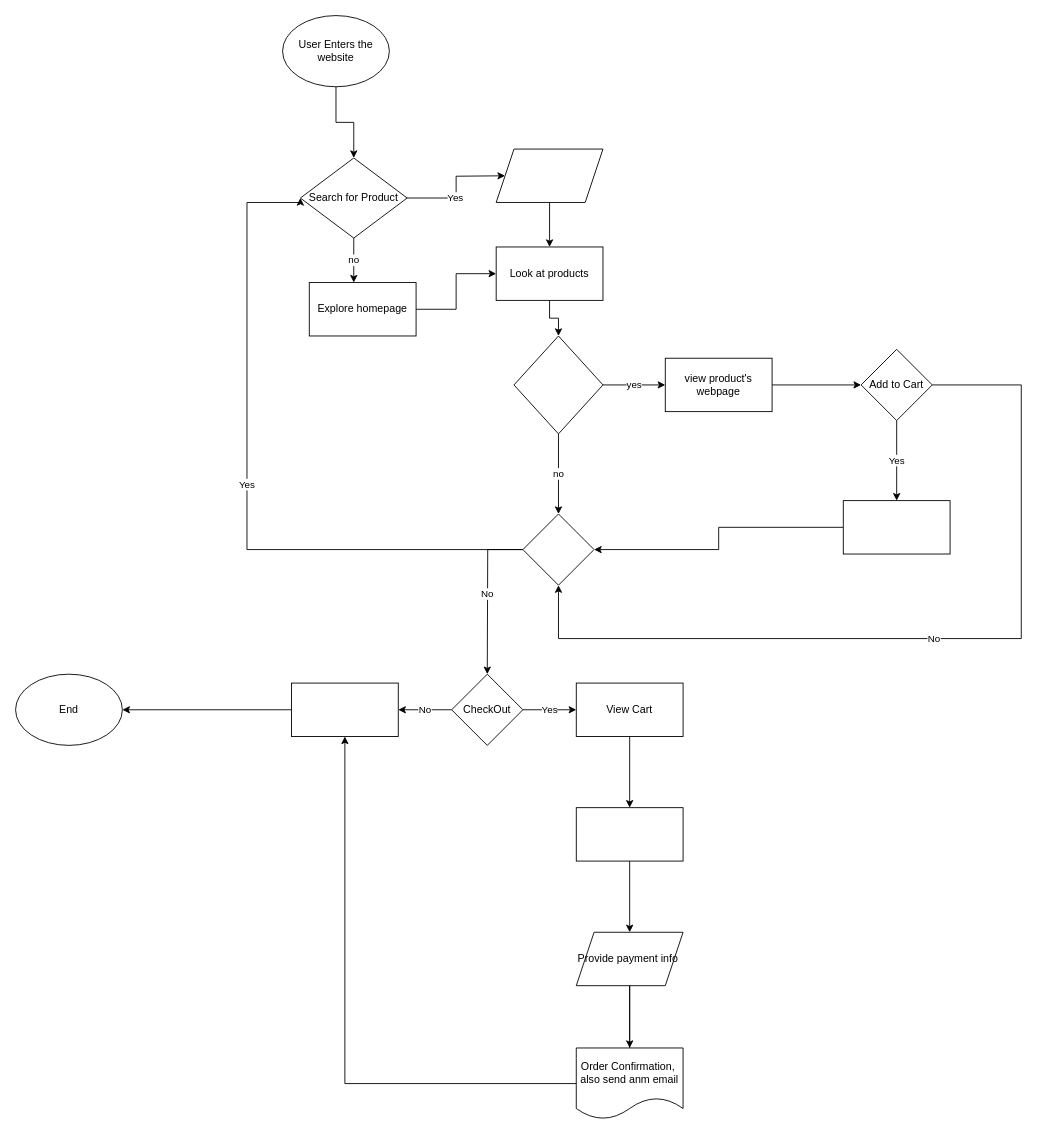
Some shapes in this 1044 by 1135 pixel diagram are drawn without their labels. The box of each missing label's shape, as (x1, y1, x2, y2) in pixels:
Add to cart confimation: (842, 500, 950, 554)
Continue Shopping: (522, 513, 594, 585)
Leave Website: (291, 682, 398, 736)
Provide Input to search: (495, 148, 603, 202)
View Payment: (575, 807, 683, 861)
View specific product: (513, 335, 603, 434)
